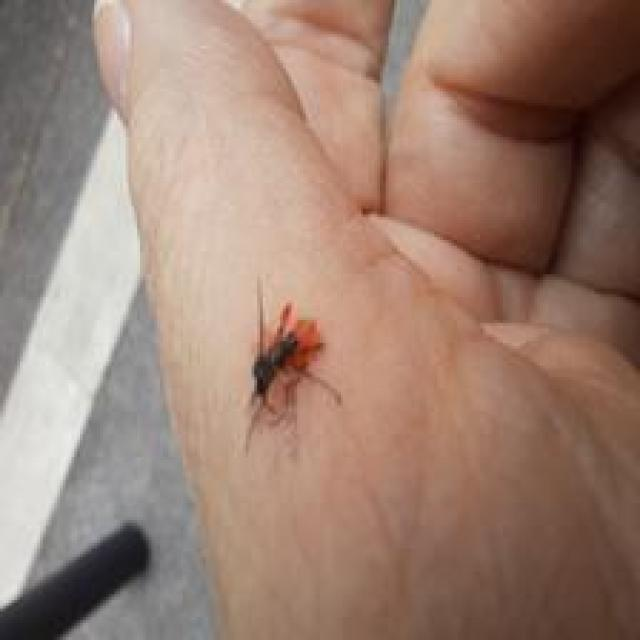Aedes albopictus: (243, 274, 343, 454)
